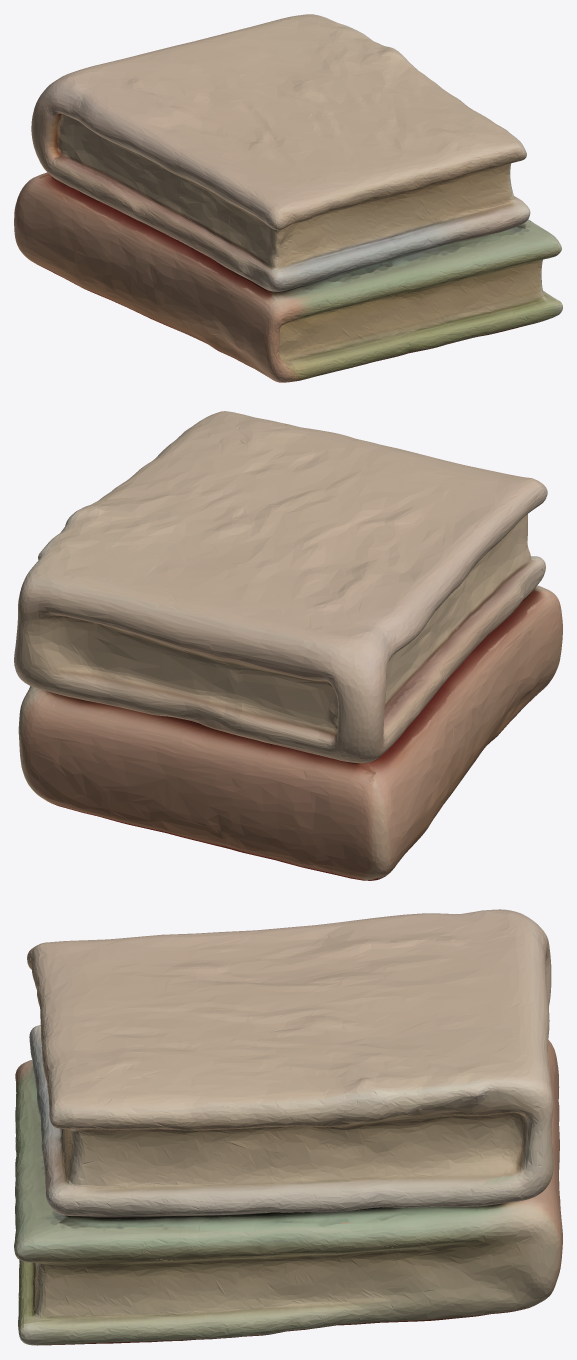
The model's file is 坐垫堆.glb.
3 renders of one model, top to bottom at view 1: azimuth 30°, elevation 25°; view 2: azimuth 150°, elevation 25°; view 3: azimuth 270°, elevation 25°, orthographic. The views are drawn at different scales.
Visible parts, largest first — view 1: world; view 2: world; view 3: world.
Boxes of the visible parts, box(x1,y1,x2,y2) form: world: box(14, 14, 562, 382); world: box(14, 411, 562, 880); world: box(14, 909, 562, 1345).
Bounding box in the file's own units: 1.95 × 1 × 1.99.
Materials: 1 (1 with a texture image).
